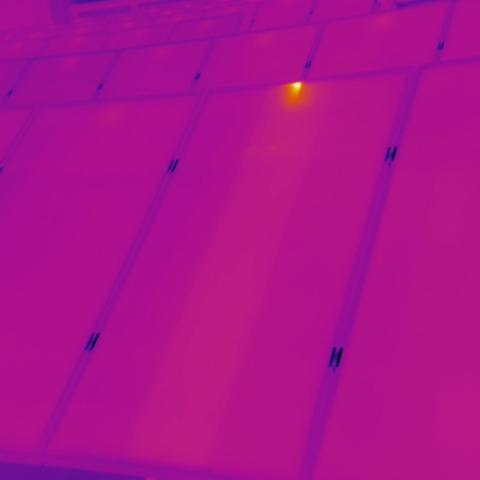fault: (287, 80, 309, 94)
